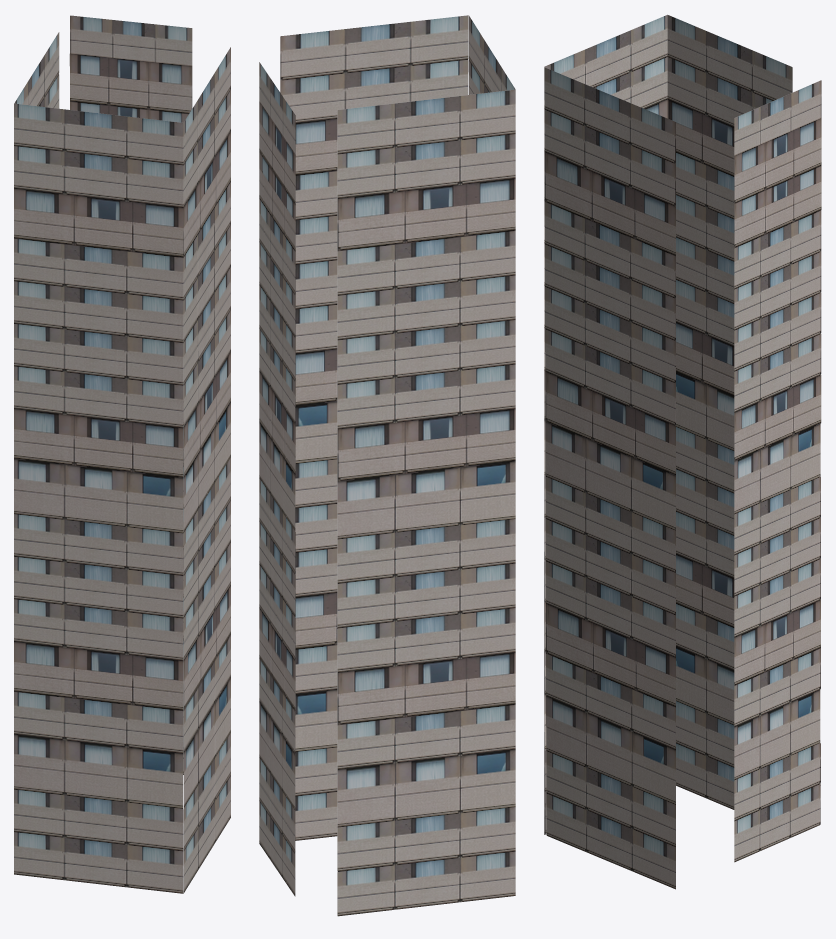
Rendered from building_007_1.fbx.
3 views of the same model, side by side, from view 1: azimuth 30°, elevation 25°; view 2: azimuth 150°, elevation 25°; view 3: azimuth 270°, elevation 25° (orthographic). The views are drawn at different scales.
Parts seen in each view (by area): view 1: Areas:building.007; view 2: Areas:building.007; view 3: Areas:building.007.
Part boxes in pixels (x1,y1,x2,y2): Areas:building.007: (14,15,230,893); Areas:building.007: (259,15,515,916); Areas:building.007: (544,14,821,889).
Size of the model in its own units: 1635 by 5711 by 1786.
